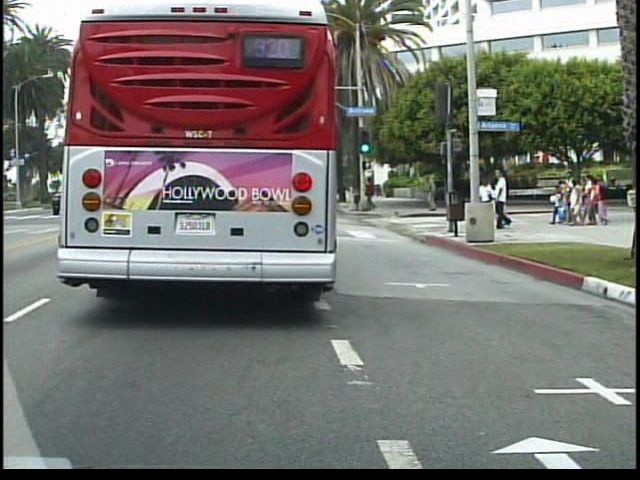person: (492, 165, 516, 235), (476, 173, 498, 227), (364, 175, 384, 215), (424, 173, 442, 214)
